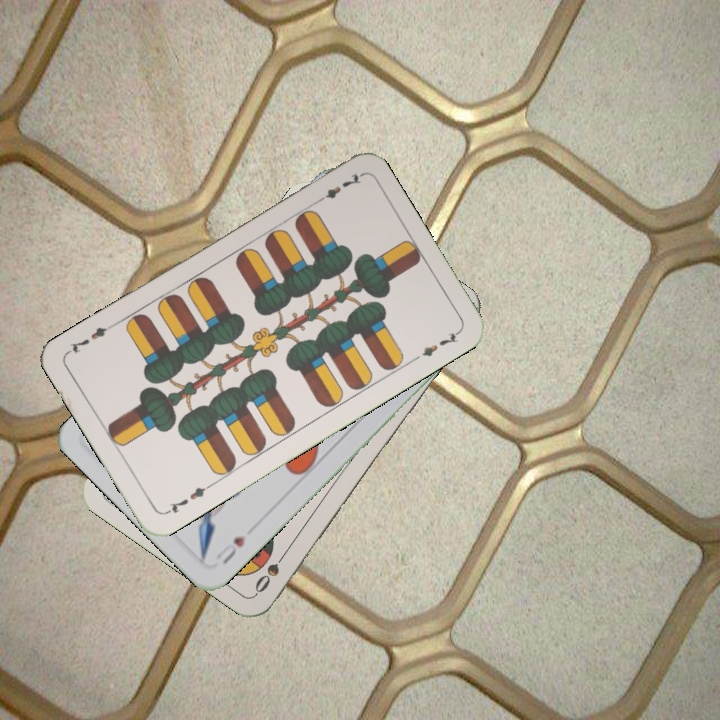E7: (311, 169, 364, 207), (161, 480, 214, 517)
HU: (212, 531, 249, 567)
SO: (250, 544, 292, 596)
